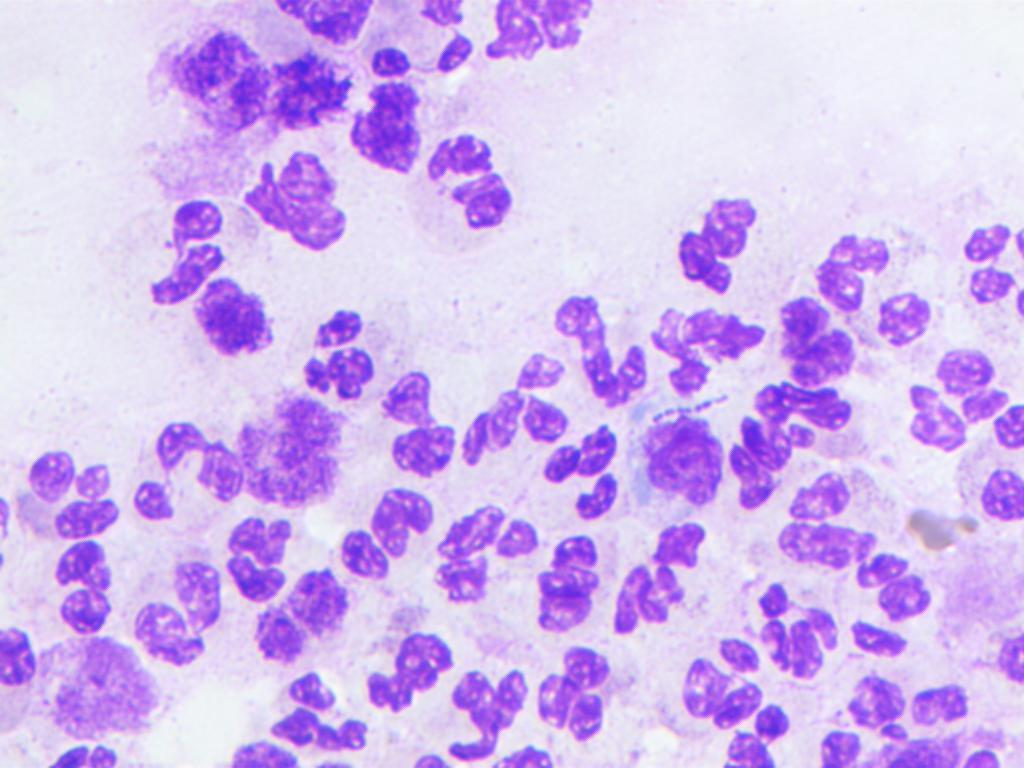artifact: (224, 141, 356, 252), (233, 388, 354, 504), (44, 629, 156, 738), (623, 402, 727, 517), (351, 63, 427, 178)
epithelial: (153, 32, 348, 137), (191, 269, 279, 363)
neutrophil: (726, 376, 862, 519), (824, 661, 1002, 768), (458, 339, 579, 470), (803, 230, 933, 348), (119, 414, 248, 528), (661, 176, 776, 303), (136, 196, 260, 313), (899, 352, 1012, 478), (329, 468, 442, 588), (643, 294, 768, 402), (554, 286, 653, 422), (425, 122, 529, 250), (17, 430, 125, 546), (349, 0, 488, 90), (367, 356, 460, 490), (645, 176, 762, 282), (739, 562, 840, 684), (430, 494, 541, 604), (351, 616, 466, 722), (609, 522, 712, 640), (523, 626, 630, 738), (125, 550, 229, 662), (429, 496, 534, 606), (249, 570, 362, 670), (846, 536, 941, 650), (290, 304, 390, 409), (949, 397, 1024, 534), (209, 496, 302, 606), (438, 656, 530, 766), (779, 466, 878, 568), (661, 648, 768, 740), (265, 664, 362, 750), (477, 0, 589, 74), (765, 289, 856, 377), (534, 526, 604, 639), (961, 216, 1024, 334), (47, 538, 121, 636), (0, 619, 42, 731), (23, 727, 134, 768)
